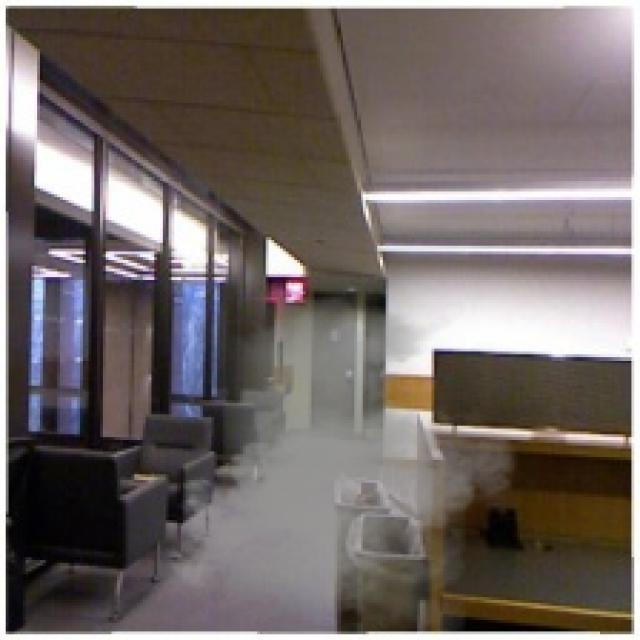smoke: (157, 289, 532, 634)
